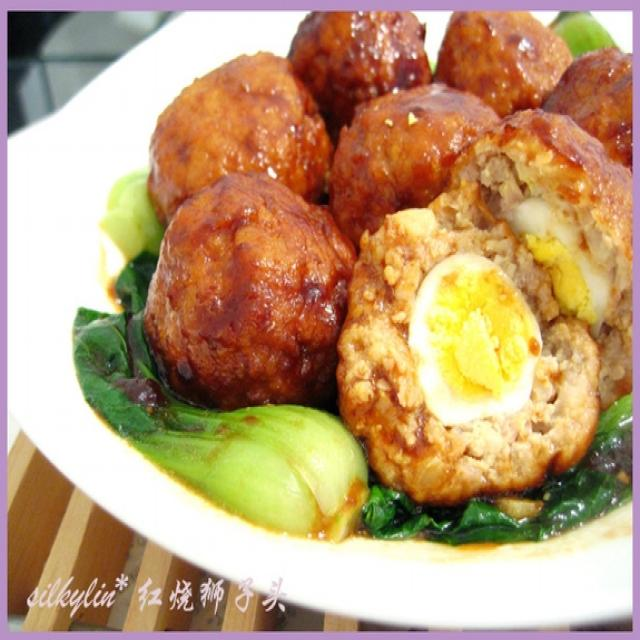Meatball: (120, 153, 357, 428)
